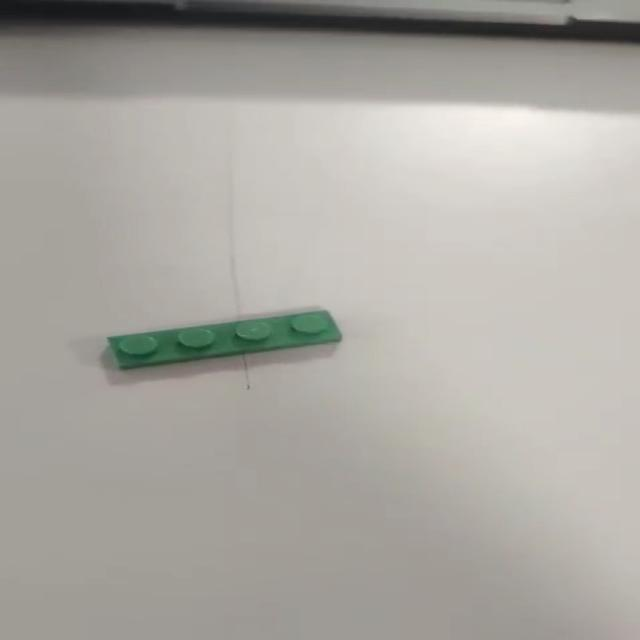C4x1x0: (99, 308, 342, 378)
